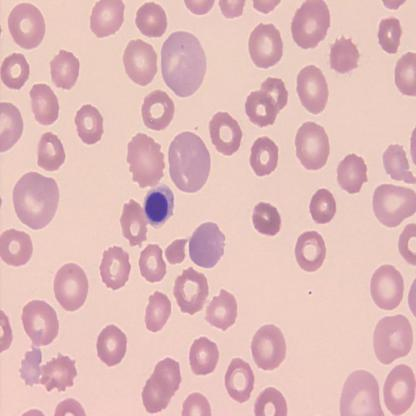NRC: (140, 182, 175, 230)
